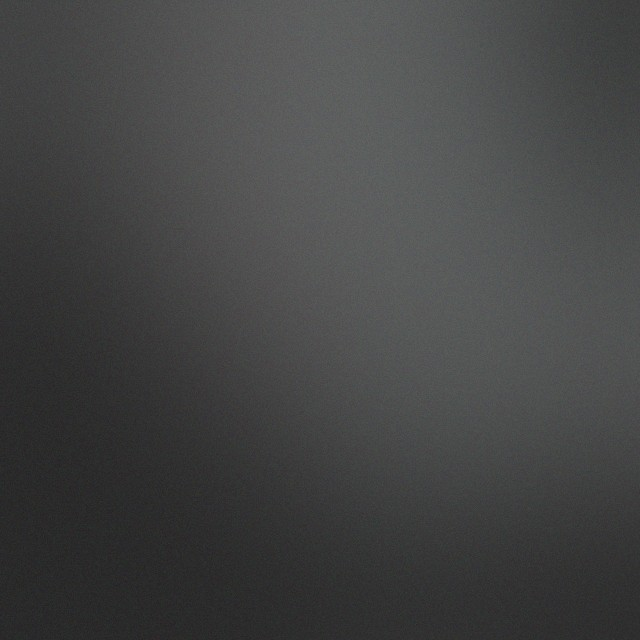smoke: (193, 27, 587, 421)
